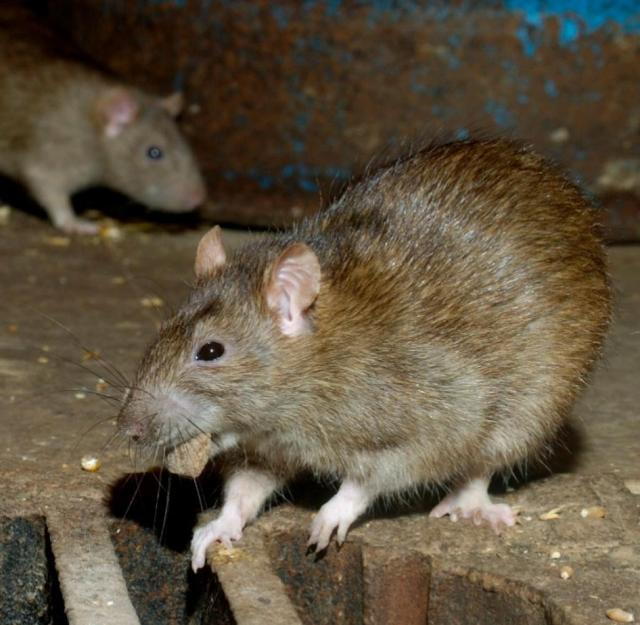rat: (96, 126, 616, 574)
